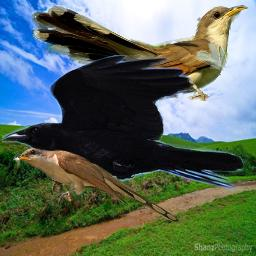Crow: (2, 55, 245, 191)
Cuckoo: (32, 5, 248, 101), (10, 147, 180, 222)
